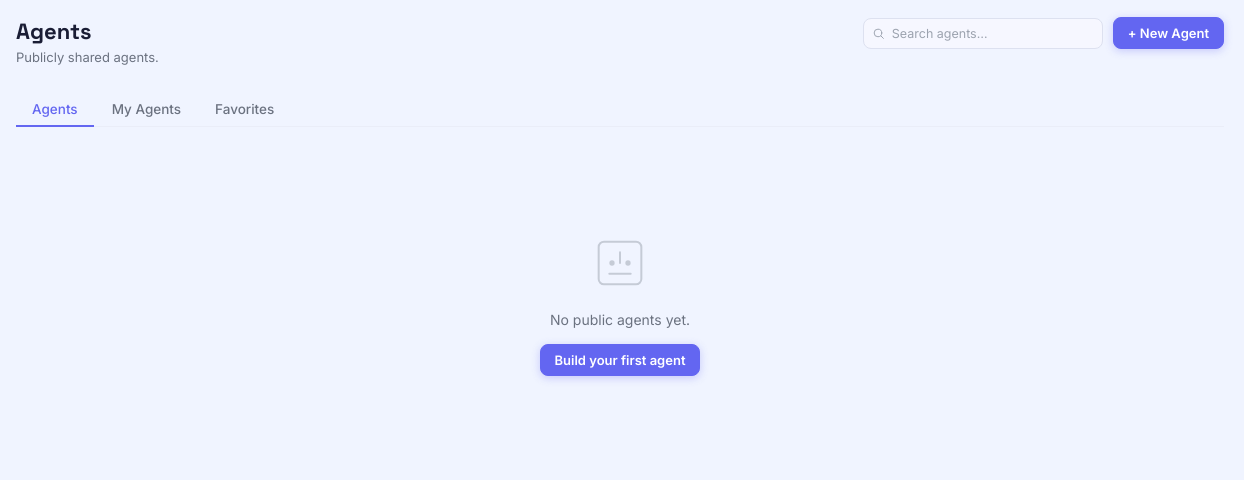
it: AgentsPage › Authenticated user › shows Delete button only for owned agents
This screenshot has width=1244, height=480.
Click the tab "My Agents" at (146, 110), box [96, 93, 197, 127]
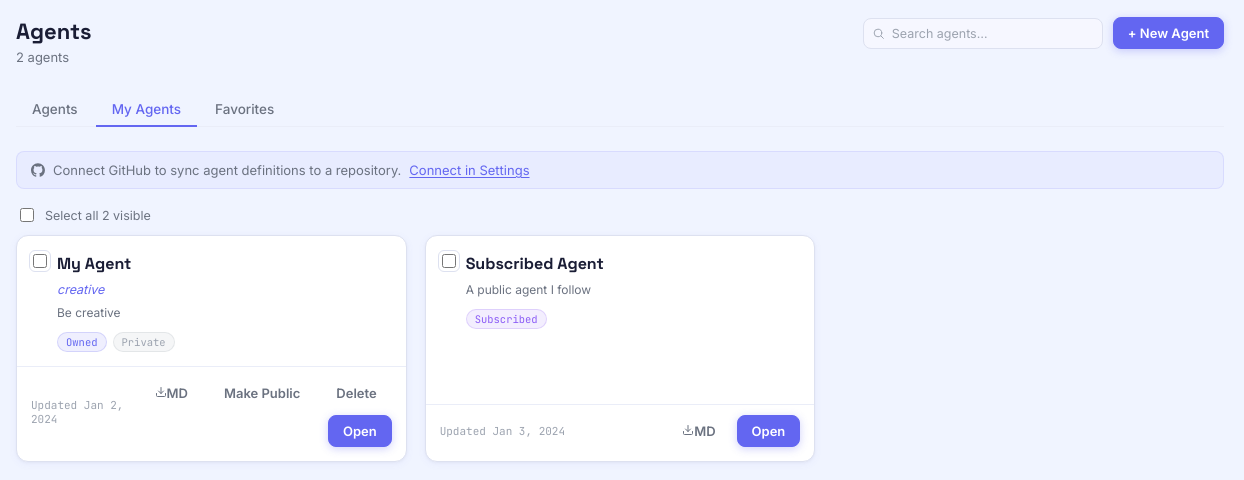
Check: the number of buttons "Delete" is 1, box [321, 377, 392, 409]
